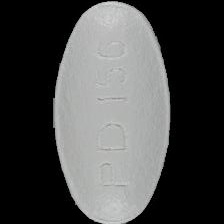63629-4849: (0, 0, 224, 224)
